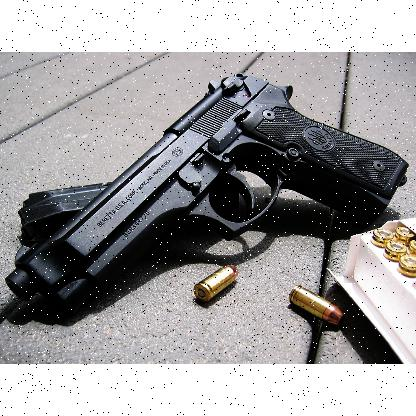gun: (5, 70, 410, 318)
